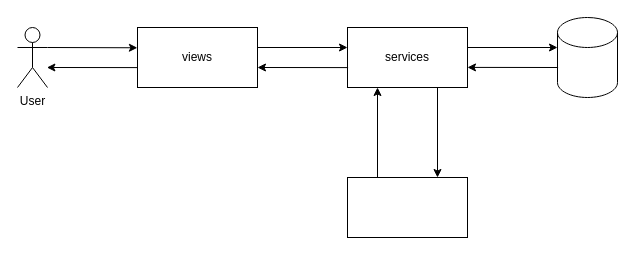
Some shapes in this 635 by 255 pixel diagram are drawn without their labels. The shapes that lost their labels are listed below. From the top down, each one's centre as x and y in pixels, then its label:
At point (587, 57): "БД".
At point (407, 207): "NN".
